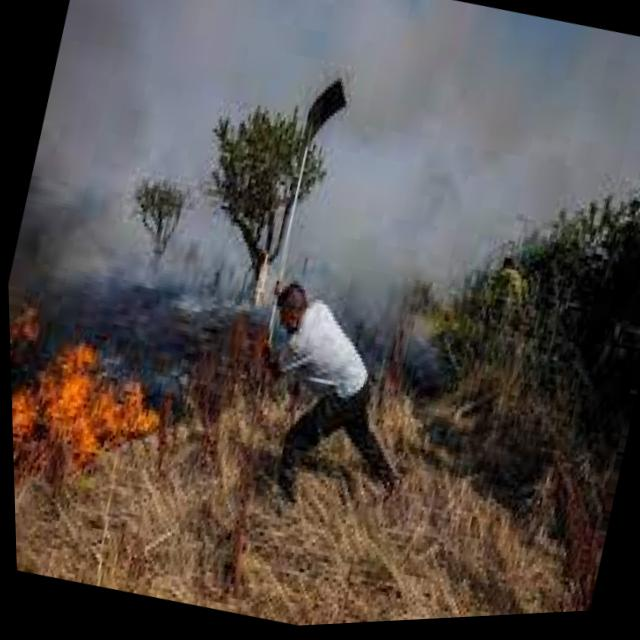Fire: (6, 267, 187, 535)
